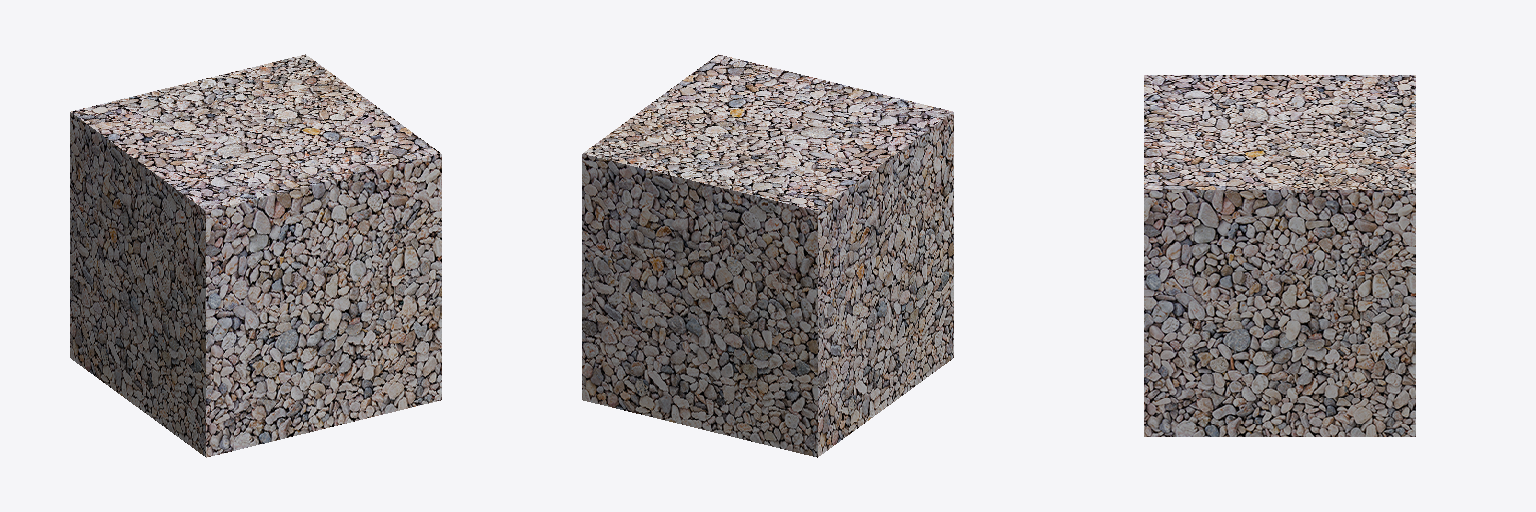
The picture shows the model from 3 angles: view 1: azimuth 30°, elevation 25°; view 2: azimuth 150°, elevation 25°; view 3: azimuth 270°, elevation 25°; orthographic projection.
Parts seen in each view (by area): view 1: Cube_Cube.001; view 2: Cube_Cube.001; view 3: Cube_Cube.001.
Boxes of the visible parts, x1=… form: Cube_Cube.001: x1=70, y1=54, x2=441, y2=457; Cube_Cube.001: x1=582, y1=54, x2=953, y2=457; Cube_Cube.001: x1=1144, y1=75, x2=1415, y2=436.
Bounding box in the file's own units: 2 × 2 × 2.
1 materials, 1 textured.